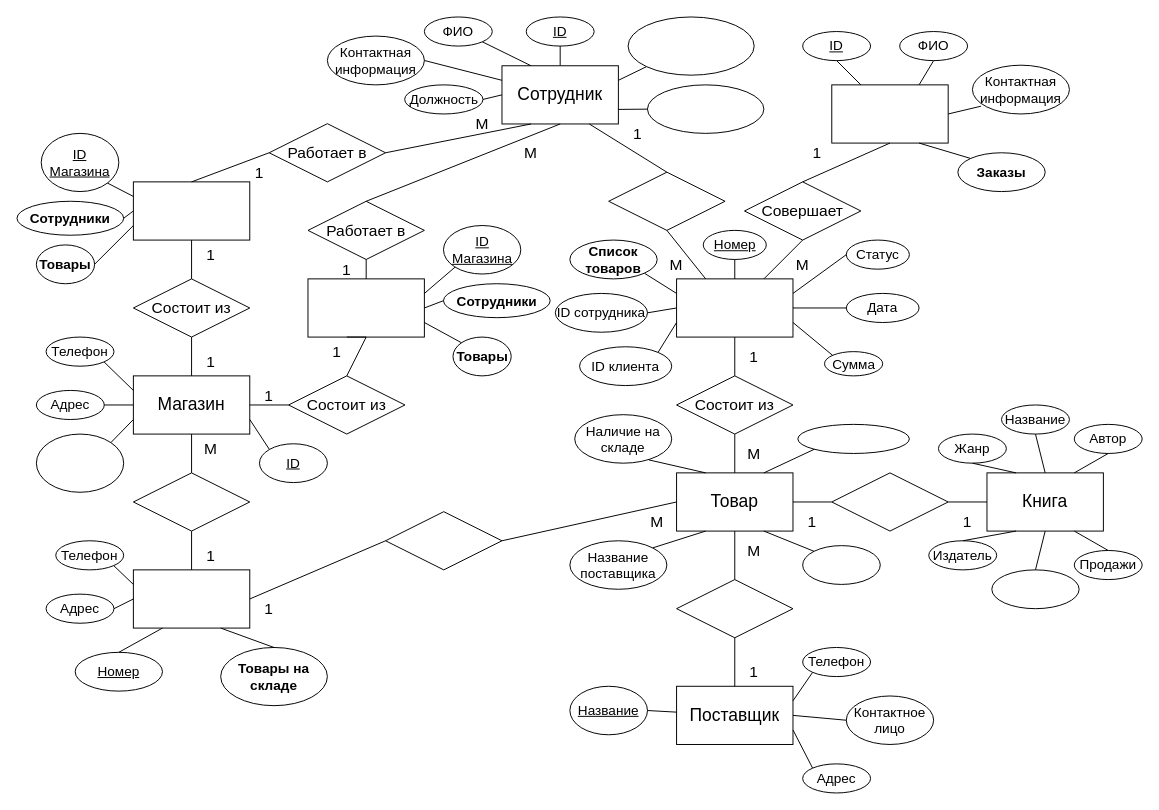
This 1159x810 diagram has some shape labels left out. The shapes that lost their labels are listed below. From the top down, each one's centre as x and y in pixels, then its label:
(x=690, y=45): ID канцелярского отдела
(x=705, y=108): ID книжного отдела
(x=889, y=113): Клиент
(x=191, y=210): Канцелярский отдел
(x=666, y=200): Оформляет
(x=365, y=307): Книжный отдел
(x=734, y=307): Заказ
(x=853, y=438): Наименование
(x=79, y=462): Номер склада
(x=191, y=501): Привязан
(x=889, y=501): Является
(x=443, y=540): Содержит
(x=841, y=564): Код
(x=191, y=598): Склад
(x=734, y=608): Поставляет
(x=1035, y=589): Код товара
